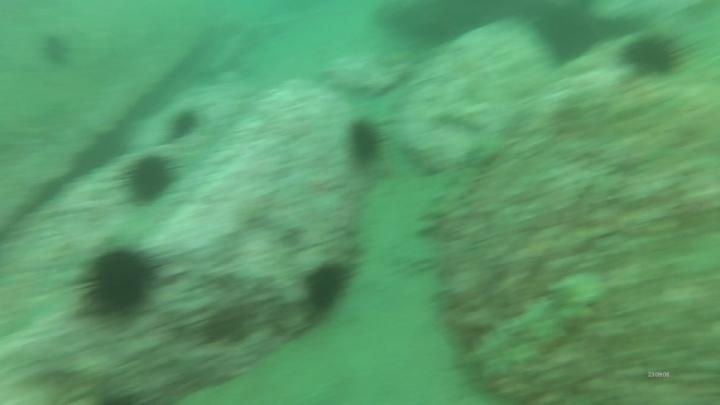echinus: (74, 238, 167, 325), (617, 29, 689, 81), (119, 151, 180, 207), (300, 258, 353, 318), (343, 115, 387, 171), (36, 30, 76, 71), (164, 105, 203, 144)
